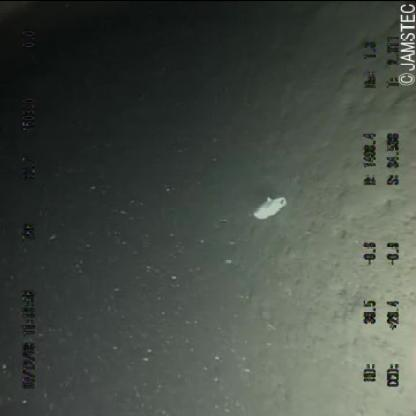Rác: (250, 191, 292, 222)
